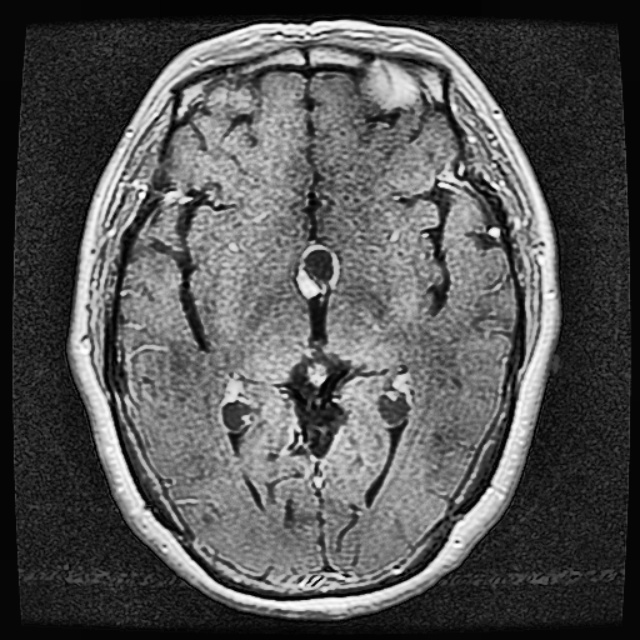Pituitary: (295, 239, 342, 299)
